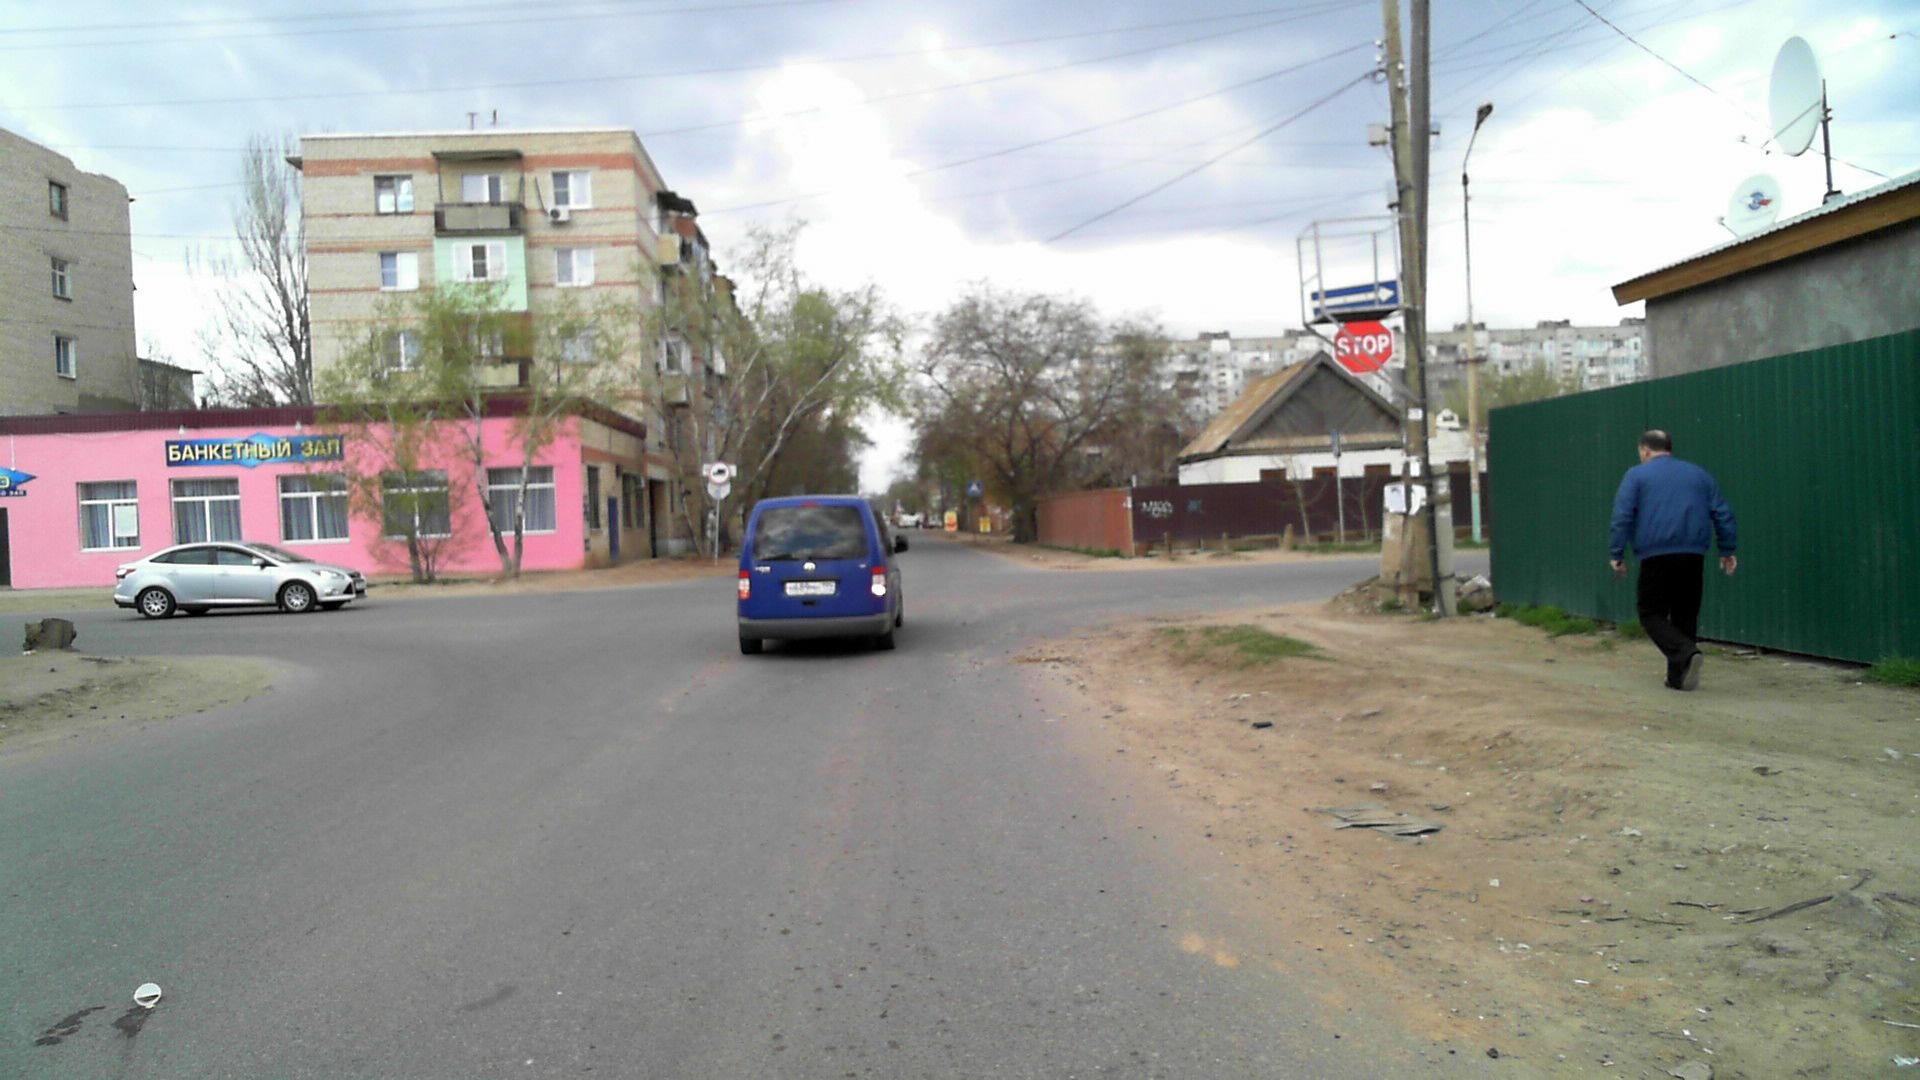One-Way Traffic: (1311, 280, 1400, 318)
